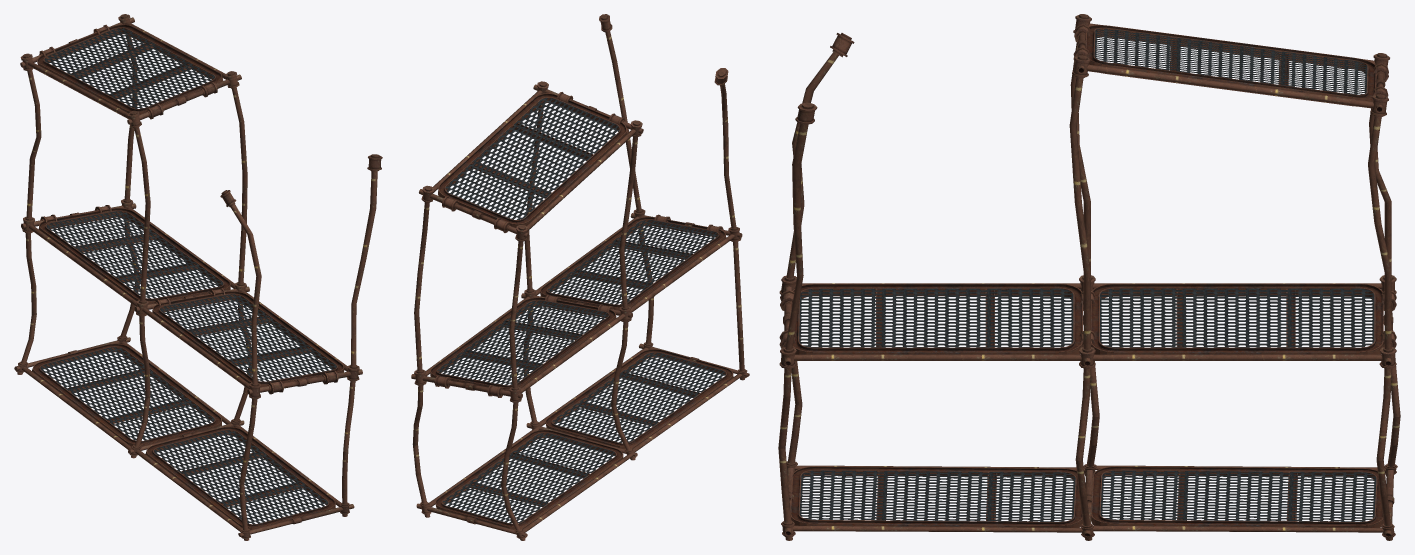
File: 02_07_fallen_scaffolding.dae
3 renders of one model, left to right at view 1: azimuth 30°, elevation 25°; view 2: azimuth 150°, elevation 25°; view 3: azimuth 270°, elevation 25°, orthographic. The views are drawn at different scales.
Parts seen in each view (by area): view 1: polySurface390, polySurface403, polySurface401; view 2: polySurface390, polySurface403, polySurface401; view 3: polySurface390, polySurface403, polySurface401.
Boxes of the visible parts, x1,y1,x2,y2 form: polySurface390: (40, 28, 336, 524); polySurface403: (14, 14, 382, 540); polySurface401: (32, 24, 344, 529); polySurface390: (437, 98, 725, 523); polySurface403: (411, 14, 749, 540); polySurface401: (430, 93, 733, 529); polySurface390: (799, 28, 1376, 521); polySurface403: (778, 14, 1400, 540); polySurface401: (790, 25, 1383, 527).
Size of the model in its own units: 3.02 by 7.06 by 8.27.
